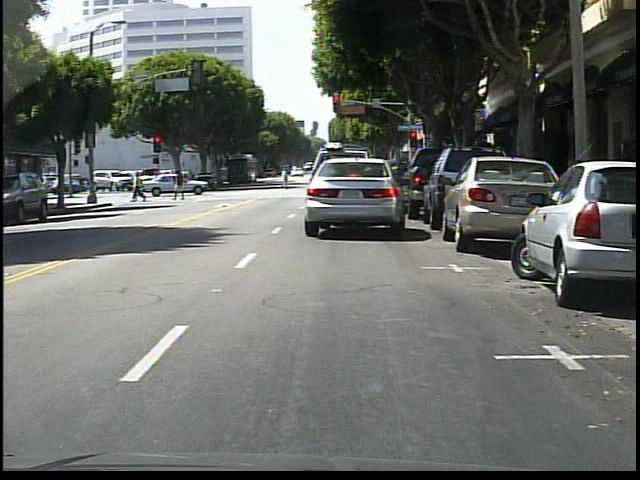person: (131, 174, 147, 204), (174, 169, 187, 201), (281, 166, 290, 190)
